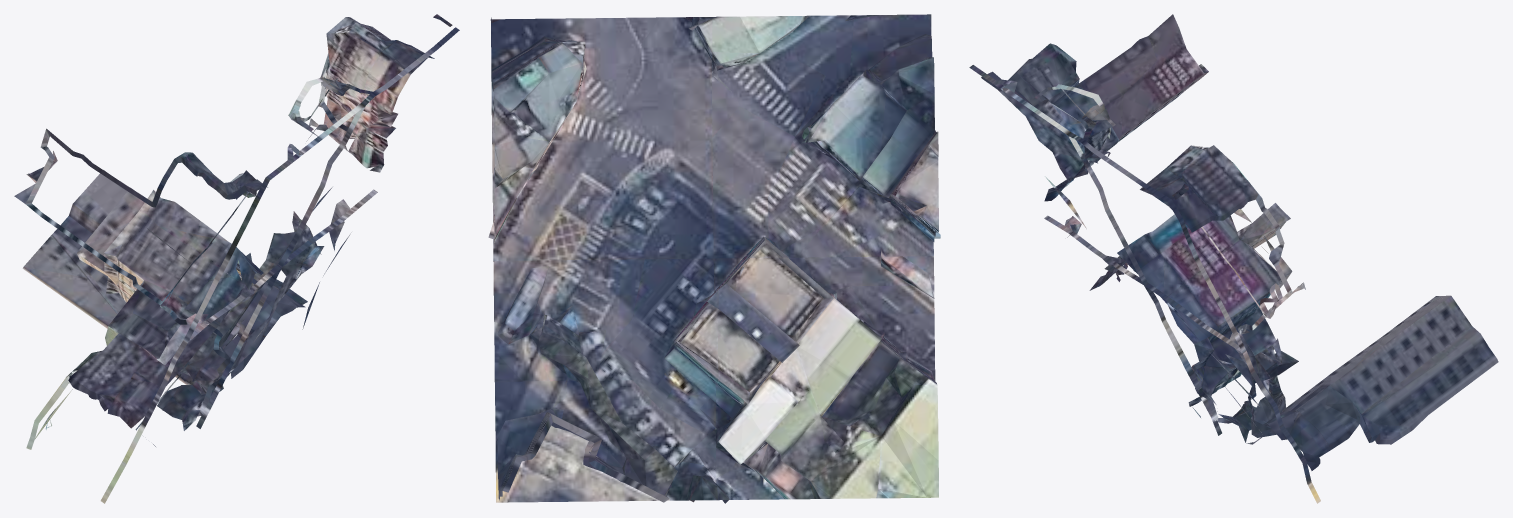
The picture shows the model from 3 angles, left to right: view 1: azimuth 30°, elevation 25°; view 2: azimuth 150°, elevation 25°; view 3: azimuth 270°, elevation 25°; orthographic projection. The views are drawn at different scales.
Size of the model in its own units: 85.21 by 73.15 by 97.28.
Materials: 1 (1 with a texture image).
